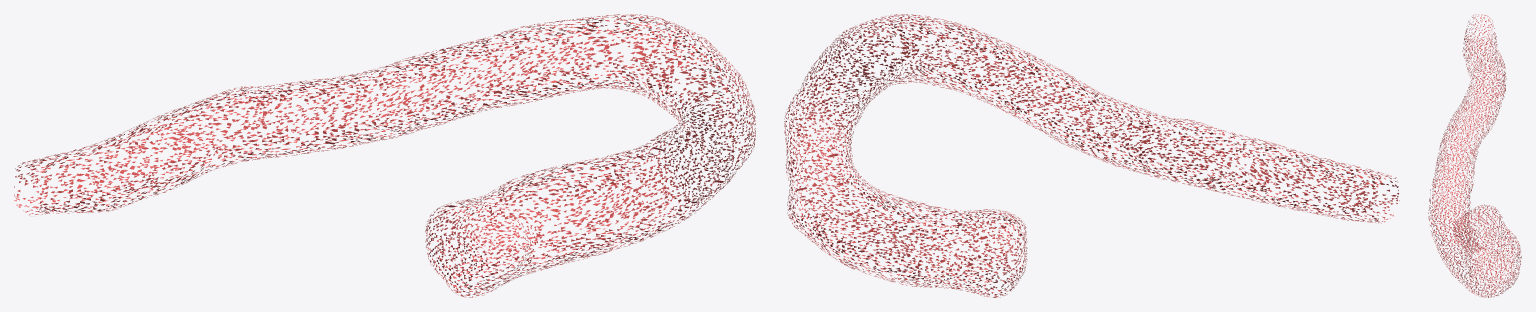
The model's file is aorta.glb.
3 views of the same model, side by side, from view 1: azimuth 30°, elevation 25°; view 2: azimuth 150°, elevation 25°; view 3: azimuth 270°, elevation 25° (orthographic). The views are drawn at different scales.
Size of the model in its own units: 288 by 106 by 61.84.
